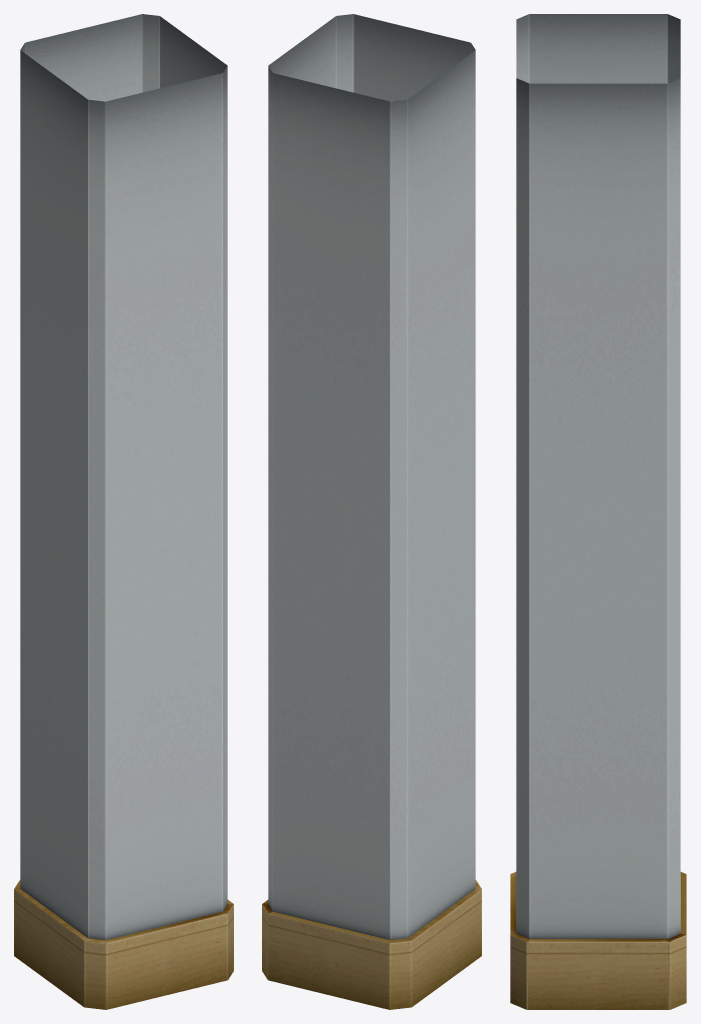
File: ExteriorColumn (merge).fbx
3 renders of one model, left to right at view 1: azimuth 30°, elevation 25°; view 2: azimuth 150°, elevation 25°; view 3: azimuth 270°, elevation 25°, orthographic. The views are drawn at different scales.
Visible parts, largest first — view 1: ExteriorColumn; view 2: ExteriorColumn; view 3: ExteriorColumn.
Boxes of the visible parts, x1,y1,x2,y2 form: ExteriorColumn: [14, 14, 233, 1009]; ExteriorColumn: [262, 14, 481, 1009]; ExteriorColumn: [510, 14, 686, 1009].
Bounding box in the file's own units: 0.6916 × 4 × 0.6916.
1 material, 1 textured.
